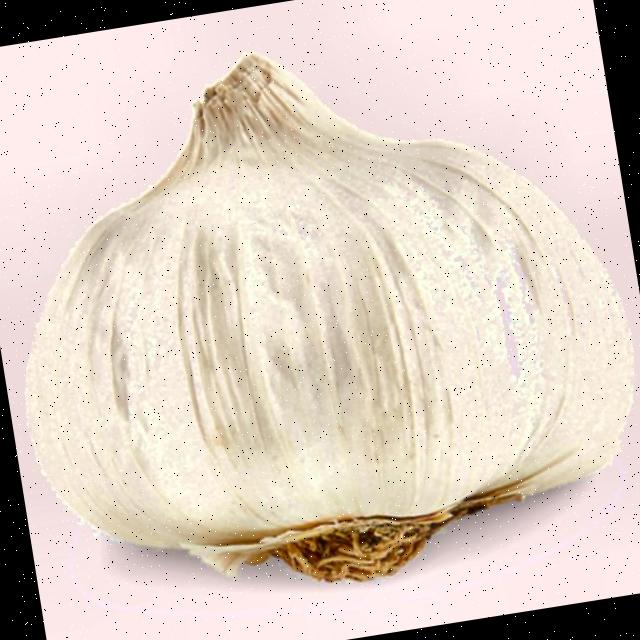garlic: (27, 54, 633, 580)
